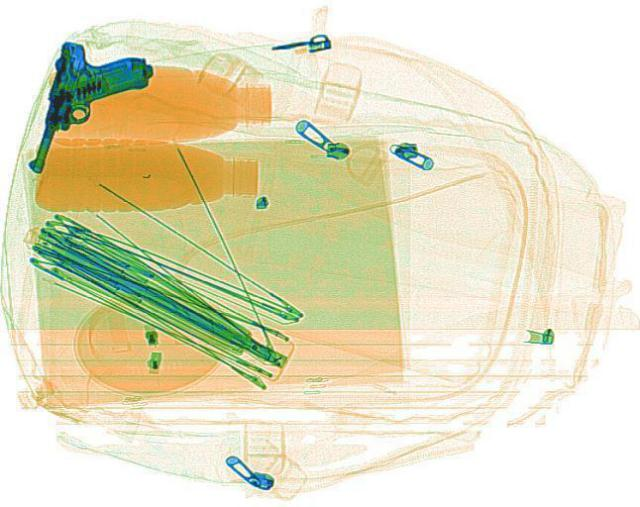Gun: (20, 39, 156, 185)
